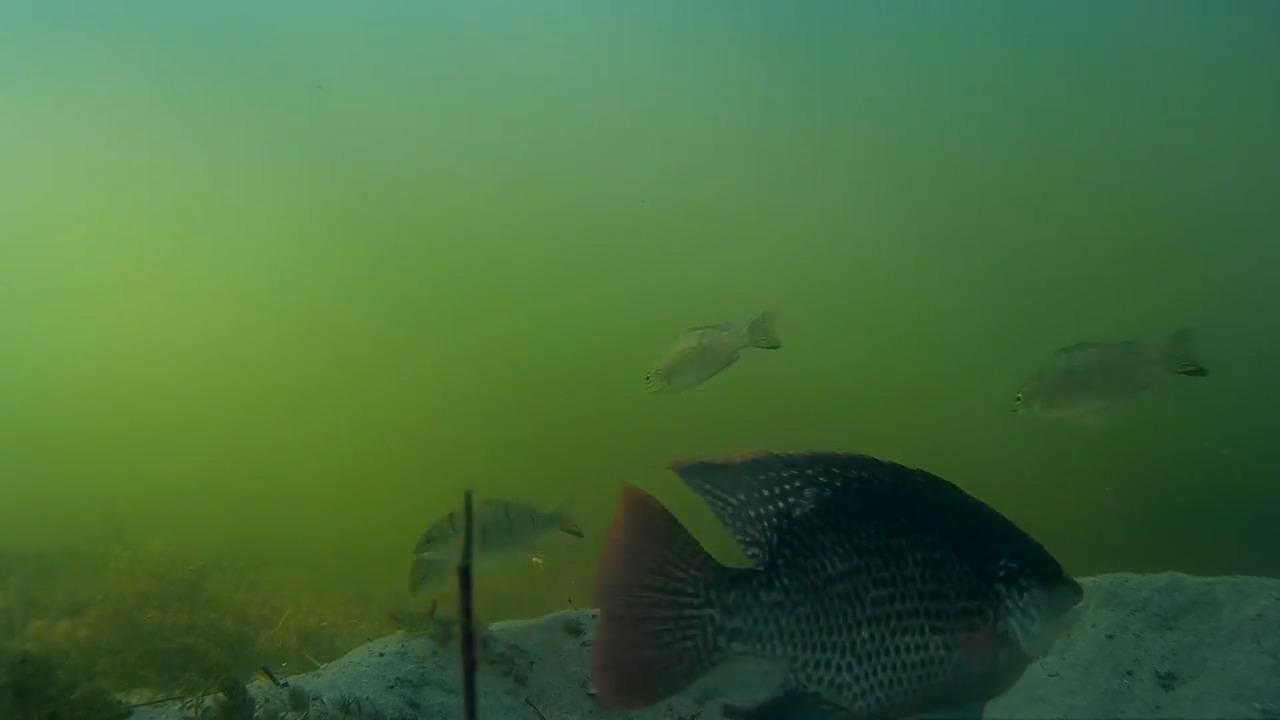Tilapia: (590, 450, 1101, 714), (1011, 324, 1212, 428), (408, 474, 595, 562), (633, 312, 792, 400)
